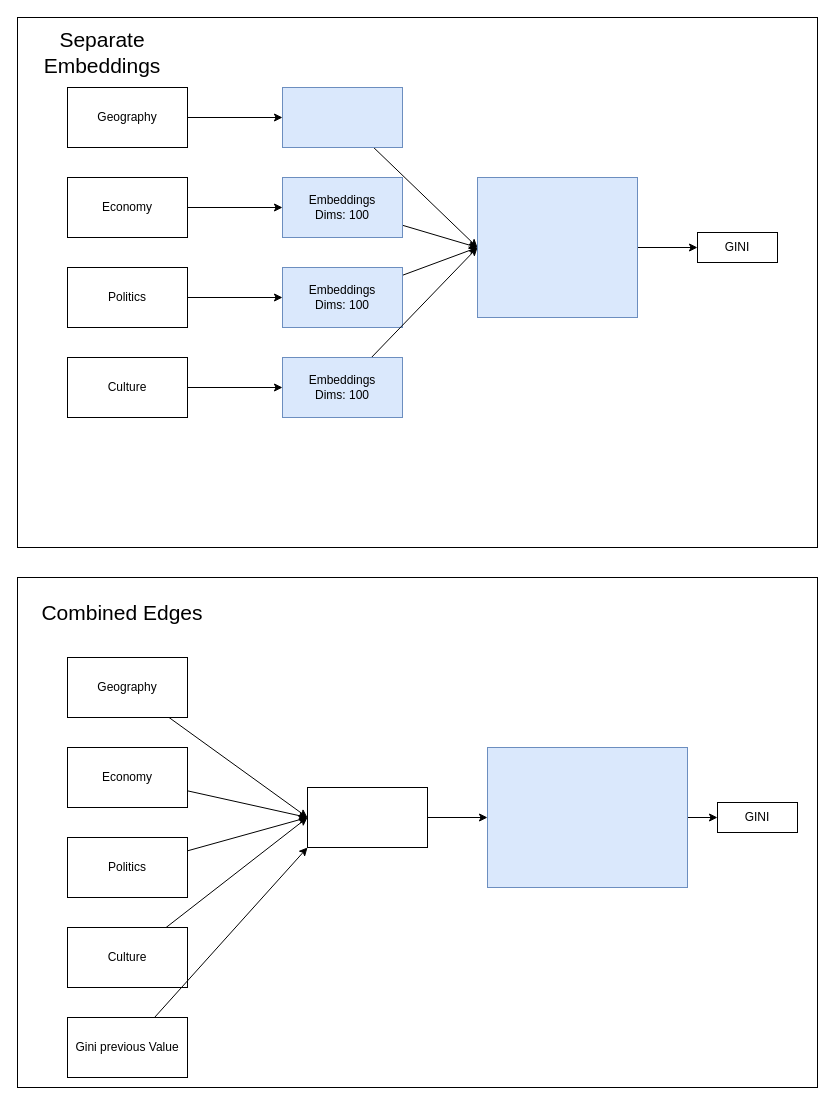
Image size: 835x1105. Some labels were removed from this diagram. Here are the shapes that lost their labels. From the top down, the box of each, then its label:
(282, 86, 402, 148): GNN-Embeddings Dims: 100
(476, 176, 638, 318): MLP
(306, 786, 428, 848): Single Large Graph-Dataset
(486, 746, 688, 888): GNN
